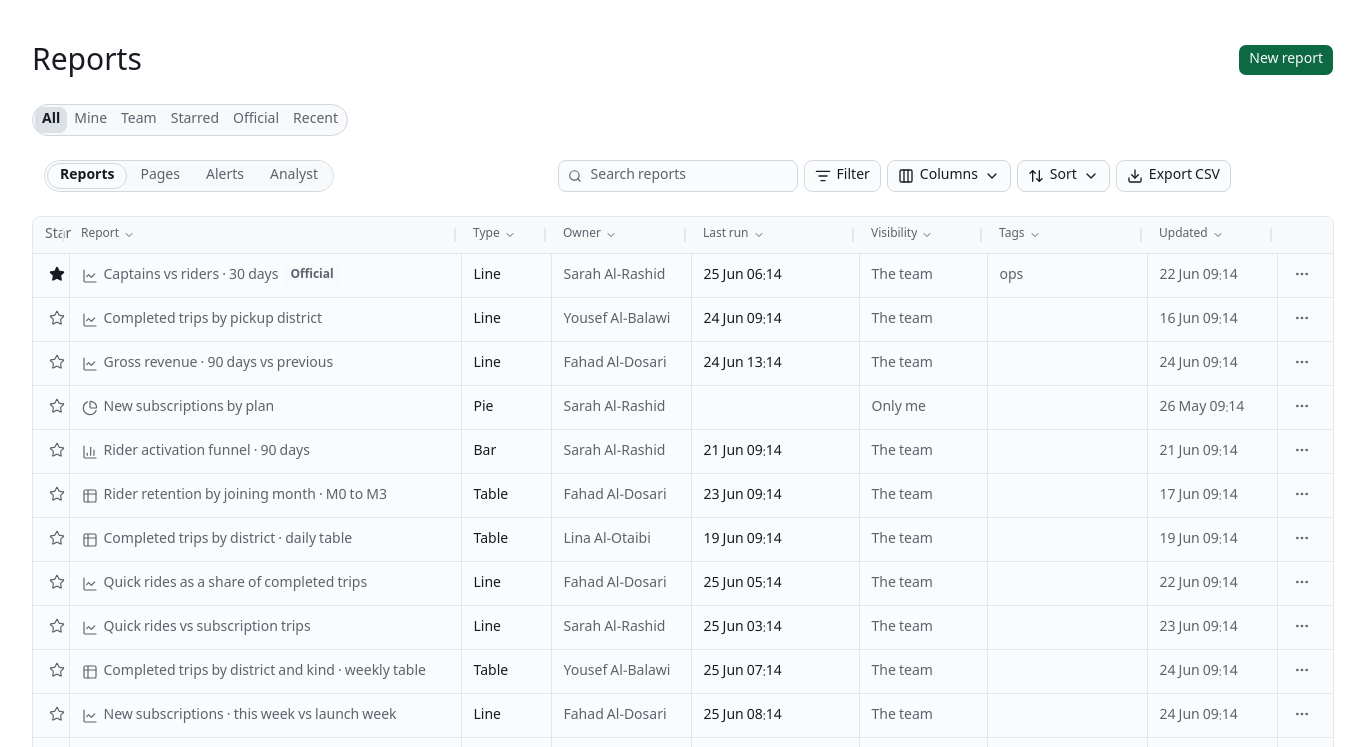
Test: the row overflow carries the row’s actions › names every library action inside the menu, including Create alert
Check: the row that starts with "Captains vs riders · 30 days" is shown, box x1=33 y1=254 x2=1333 y2=298
Click the button named "More actions". click: point(1302, 274)
box: x1=1290 y1=262 x2=1314 y2=286
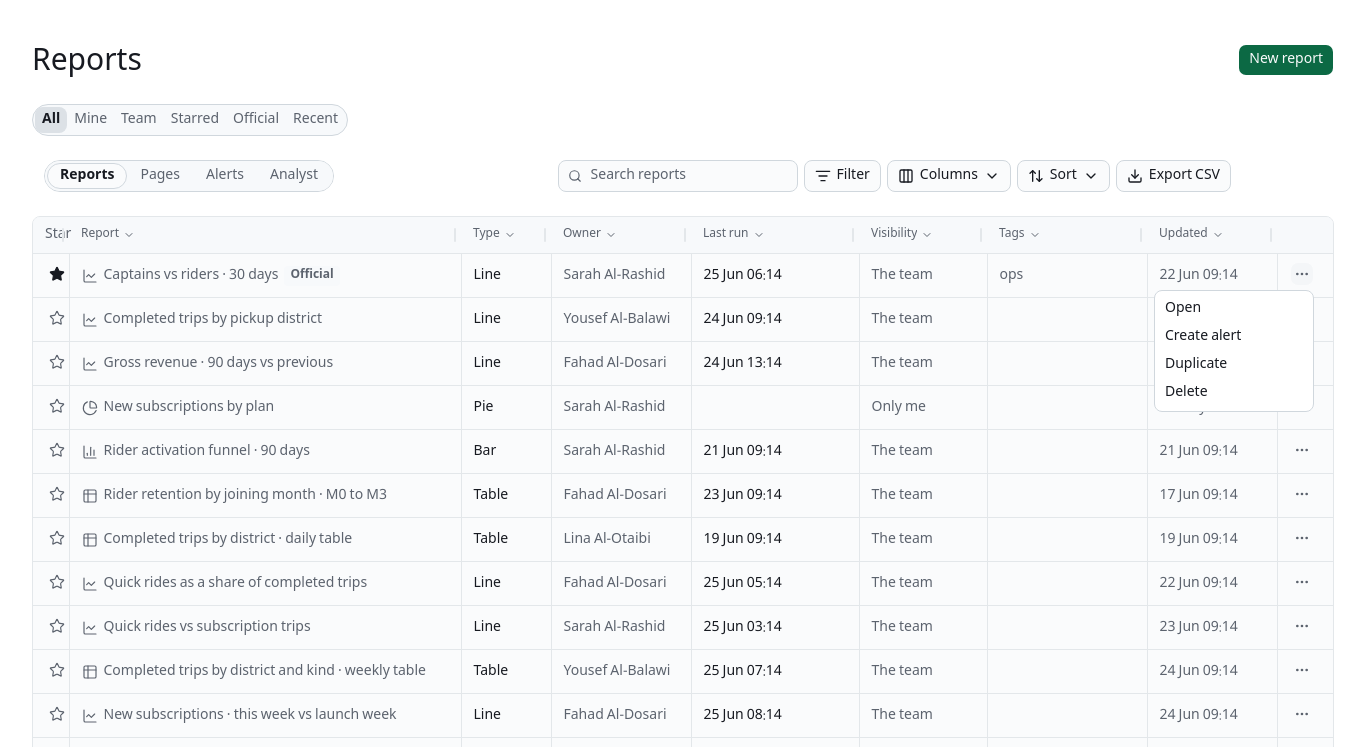
Check: the menu item "Open" is shown, box x1=1165 y1=297 x2=1201 y2=321
Check: the menu item "Create alert" is shown, box x1=1165 y1=325 x2=1241 y2=349
Check: the menu item "Delete" is shown, box x1=1165 y1=381 x2=1208 y2=405
